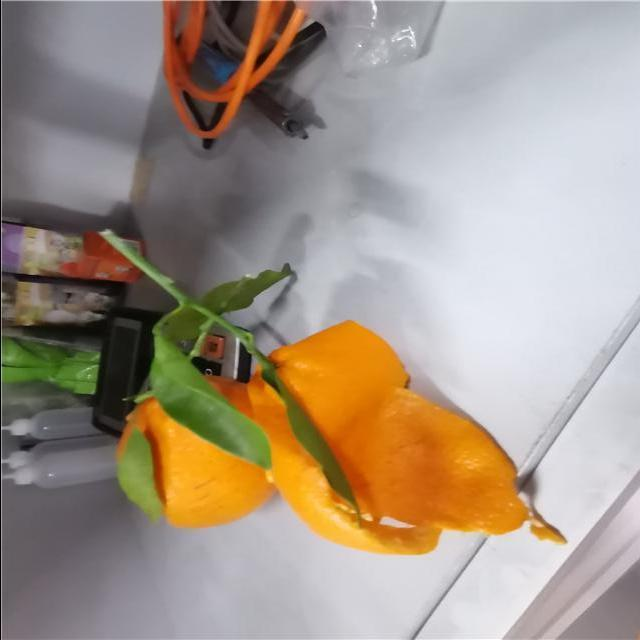orange peel: (244, 324, 570, 550), (115, 370, 282, 534)
